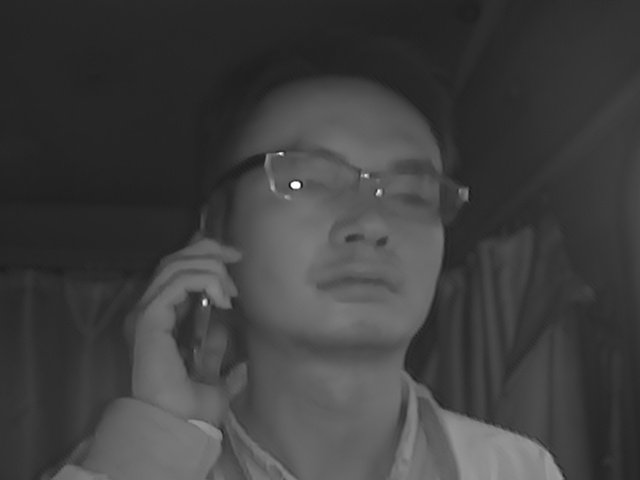hand: (116, 239, 247, 425)
